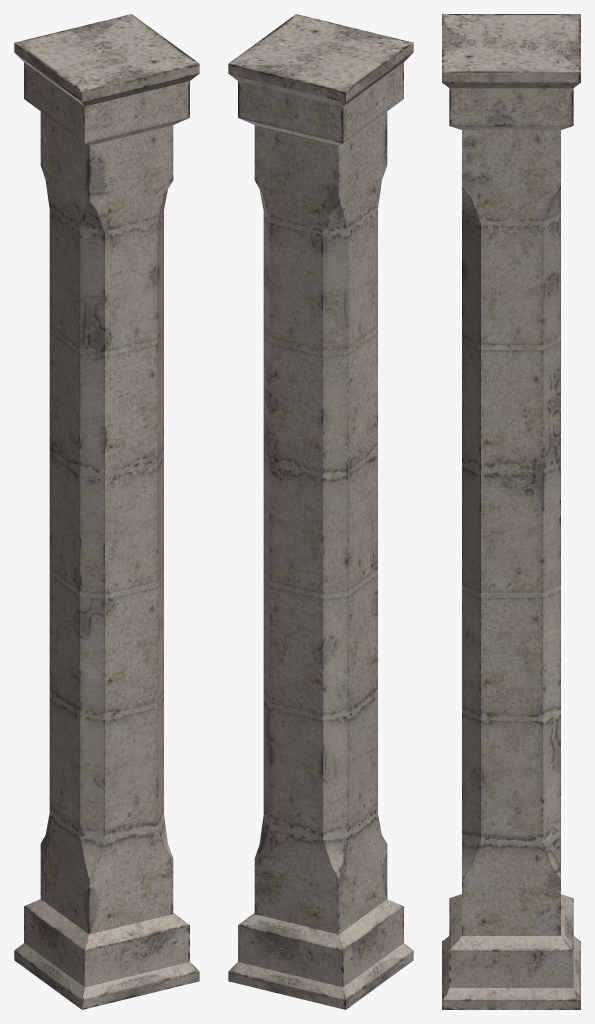
File: column_a_01.FBX
3 views of the same model, side by side, from view 1: azimuth 30°, elevation 25°; view 2: azimuth 150°, elevation 25°; view 3: azimuth 270°, elevation 25° (orthographic). The views are drawn at different scales.
Parts seen in each view (by area): view 1: Column; view 2: Column; view 3: Column.
Boxes of the visible parts, <box> form: Column: <box>14,14,199,1009</box>; Column: <box>228,14,413,1009</box>; Column: <box>442,14,580,1009</box>.
Size of the model in its own units: 134 by 1000 by 134.
